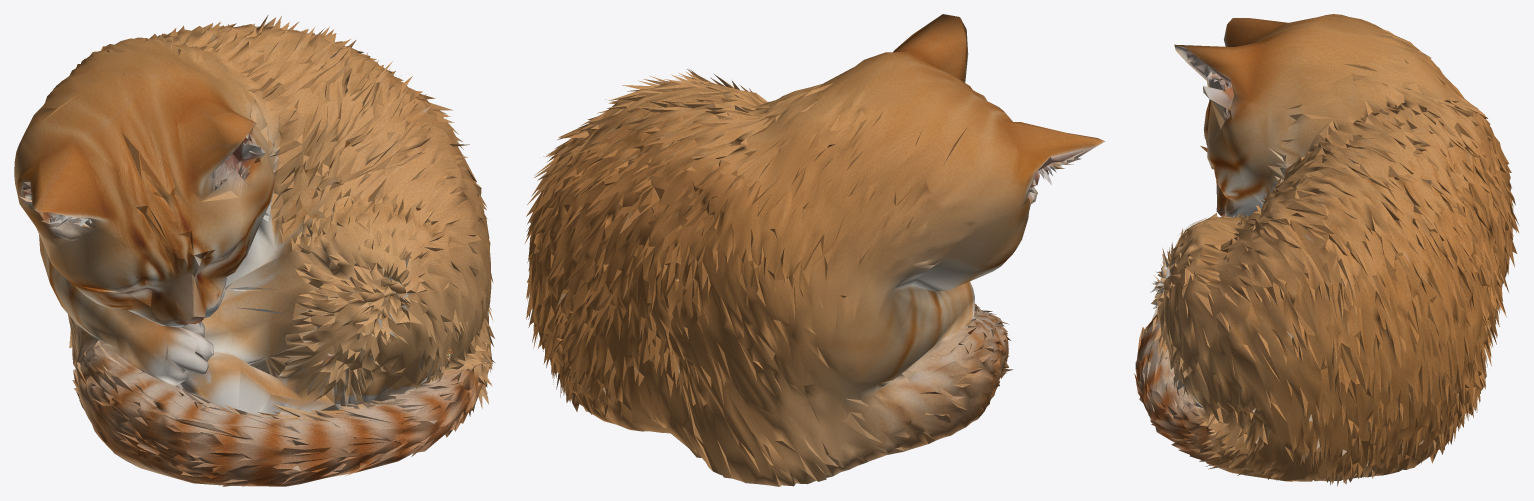
Rendered from CatSleeping.fbx.
The picture shows the model from 3 angles, left to right: view 1: azimuth 30°, elevation 25°; view 2: azimuth 150°, elevation 25°; view 3: azimuth 270°, elevation 25°; orthographic projection. The views are drawn at different scales.
Visible parts, largest first — view 1: Mesh_0; view 2: Mesh_0; view 3: Mesh_0.
Part boxes in pixels (x1,y1,x2,y2): Mesh_0: [14, 15, 494, 486]; Mesh_0: [525, 14, 1105, 486]; Mesh_0: [1134, 14, 1519, 486].
Bounding box in the file's own units: 190 × 132 × 141.
Materials: 1 (1 with a texture image).
